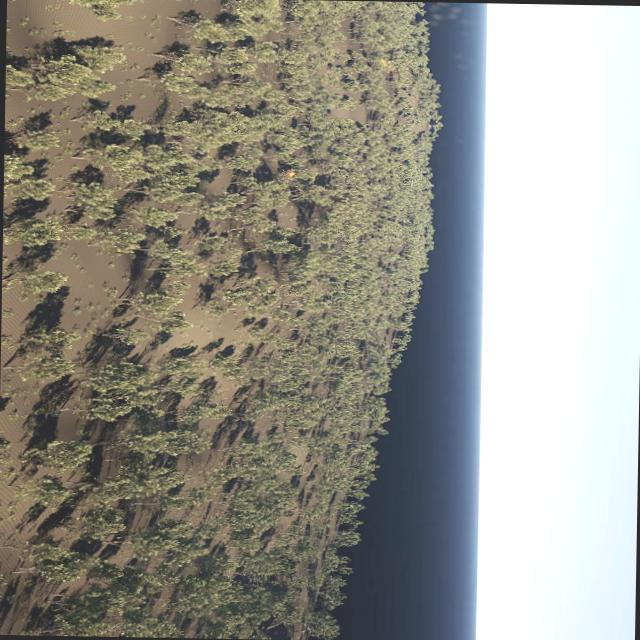fire: (282, 170, 292, 178), (380, 59, 386, 64)
smoke: (424, 3, 484, 81)
